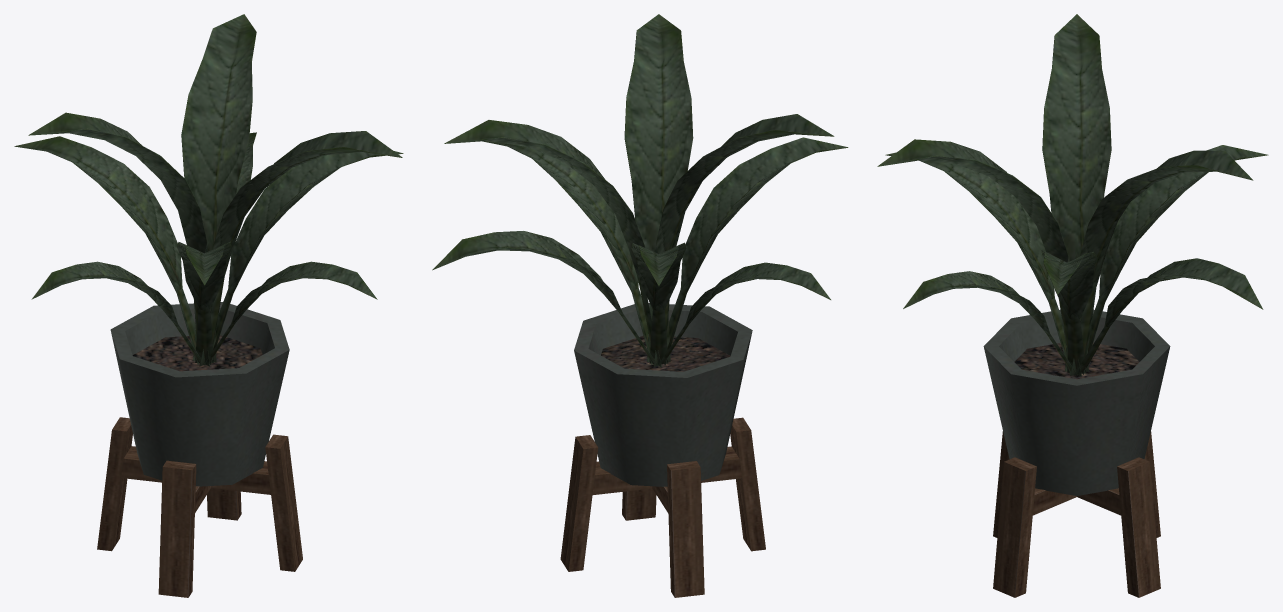
Rendered from [PSX] House Plant Model.fbx.
3 renders of one model, left to right at view 1: azimuth 30°, elevation 25°; view 2: azimuth 150°, elevation 25°; view 3: azimuth 270°, elevation 25°, orthographic.
Visible parts, largest first — view 1: House Plant; view 2: House Plant; view 3: House Plant.
Boxes of the visible parts, box(x1,y1,x2,y2) form: House Plant: box(14, 14, 403, 597); House Plant: box(432, 14, 848, 597); House Plant: box(877, 14, 1268, 597).
Size of the model in its own units: 81.95 by 99.33 by 75.41.
1 material, 1 textured.
